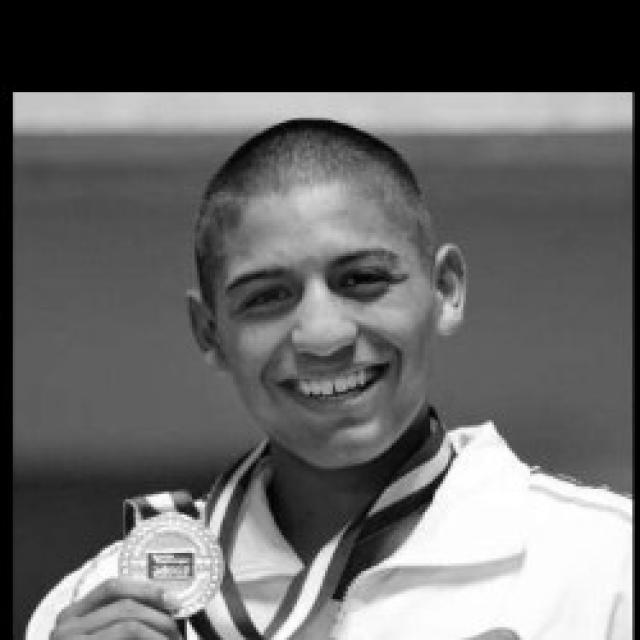real: (198, 122, 440, 471), (232, 255, 406, 320)
